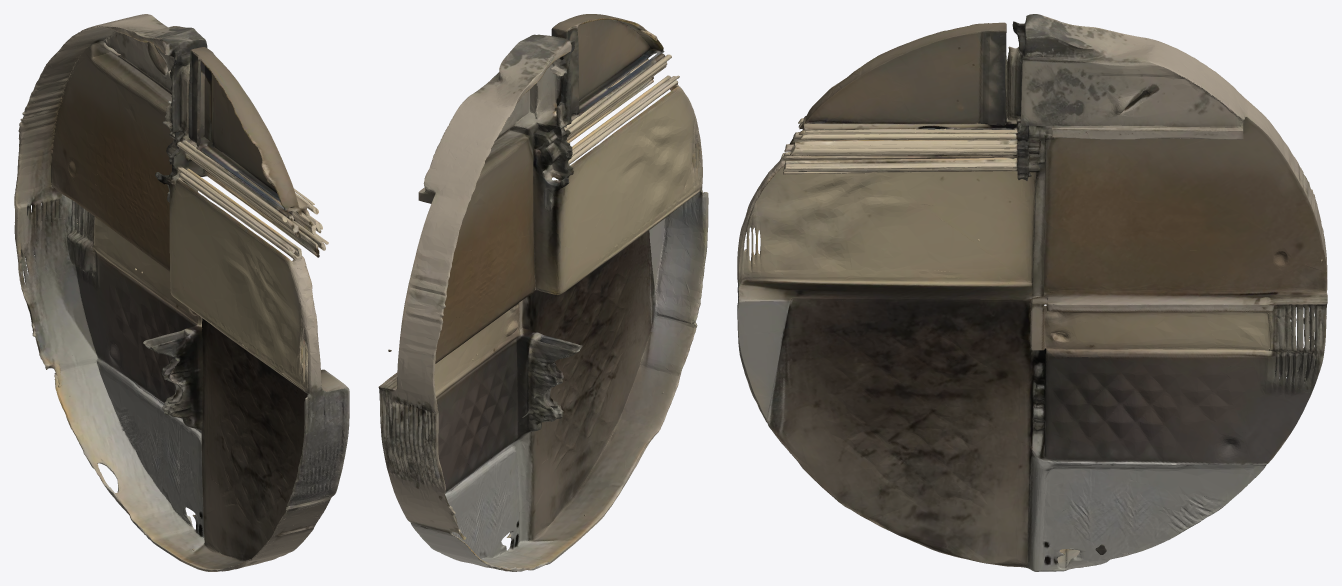
3 renders of one model, left to right at view 1: azimuth 30°, elevation 25°; view 2: azimuth 150°, elevation 25°; view 3: azimuth 270°, elevation 25°, orthographic. The views are drawn at different scales.
Visible parts, largest first — view 1: tripo_node_3ae2f3ed-acff-46a0-a581-01c9225fa516; view 2: tripo_node_3ae2f3ed-acff-46a0-a581-01c9225fa516; view 3: tripo_node_3ae2f3ed-acff-46a0-a581-01c9225fa516.
Part boxes in pixels (x1=…): tripo_node_3ae2f3ed-acff-46a0-a581-01c9225fa516: x1=14, y1=14, x2=349, y2=571; tripo_node_3ae2f3ed-acff-46a0-a581-01c9225fa516: x1=378, y1=14, x2=708, y2=571; tripo_node_3ae2f3ed-acff-46a0-a581-01c9225fa516: x1=737, y1=14, x2=1327, y2=571.
Bounding box in the file's own units: 0.1509 × 1 × 0.9995.
1 material, 1 textured.
